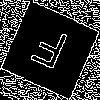F: (25, 25, 71, 79)
